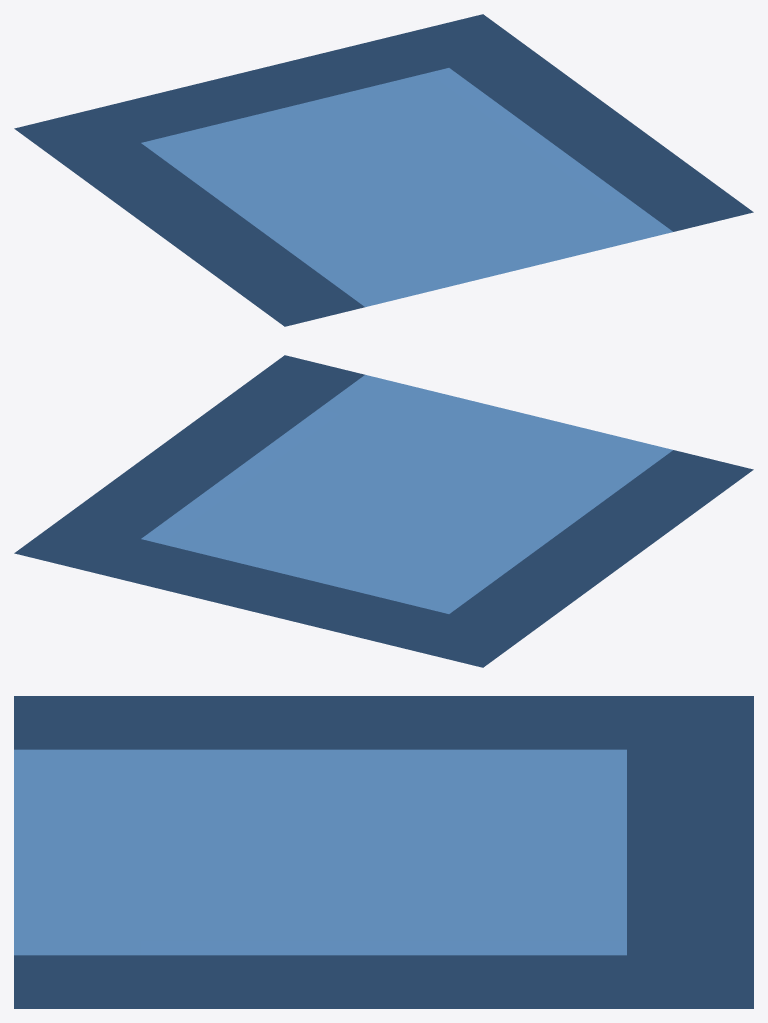
The model's file is M_FloorCrossT700x700Blue100-3_4.fbx.
The picture shows the model from 3 angles, top to bottom: view 1: azimuth 30°, elevation 25°; view 2: azimuth 150°, elevation 25°; view 3: azimuth 270°, elevation 25°; orthographic projection. The views are drawn at different scales.
Visible parts, largest first — view 1: M_FloorCrossT700x700Blue100-3_4; view 2: M_FloorCrossT700x700Blue100-3_4; view 3: M_FloorCrossT700x700Blue100-3_4.
Boxes of the visible parts, bbox=[...] form: M_FloorCrossT700x700Blue100-3_4: bbox=[14, 14, 753, 326]; M_FloorCrossT700x700Blue100-3_4: bbox=[14, 355, 753, 667]; M_FloorCrossT700x700Blue100-3_4: bbox=[14, 696, 753, 1008].
Bounding box in the file's own units: 700 × 700 × 6.53e-22.
